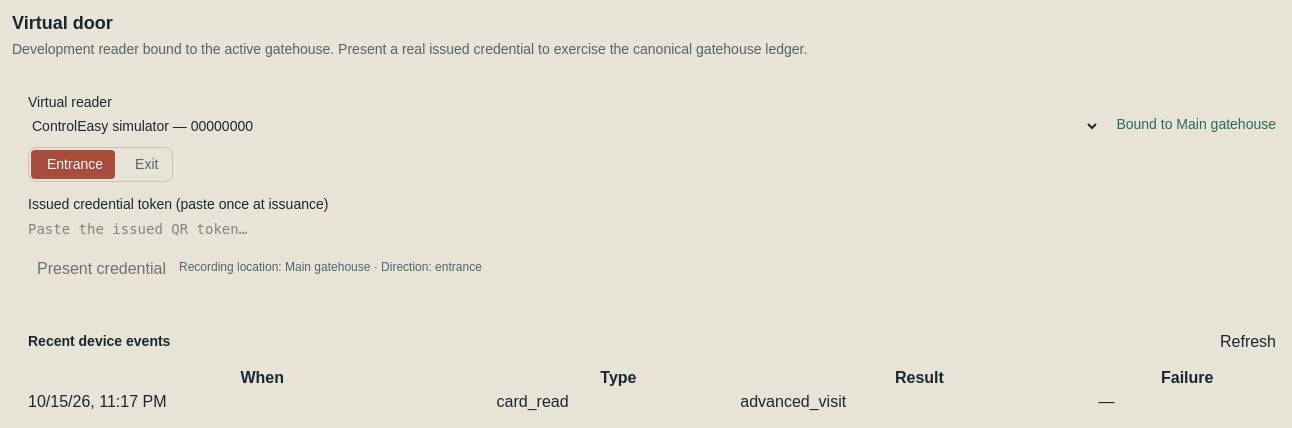
VirtualDoorComponent › displays the gatehouse binding and enables presentation for a ready reader
The width and height of the screenshot is (1292, 428).
expect the button "Present credential" is disabled: met, box [28, 256, 167, 282]
Type "issued-credential-token" into the field with test id "virtual-door-token-input" at (652, 229), box [28, 218, 1276, 240]
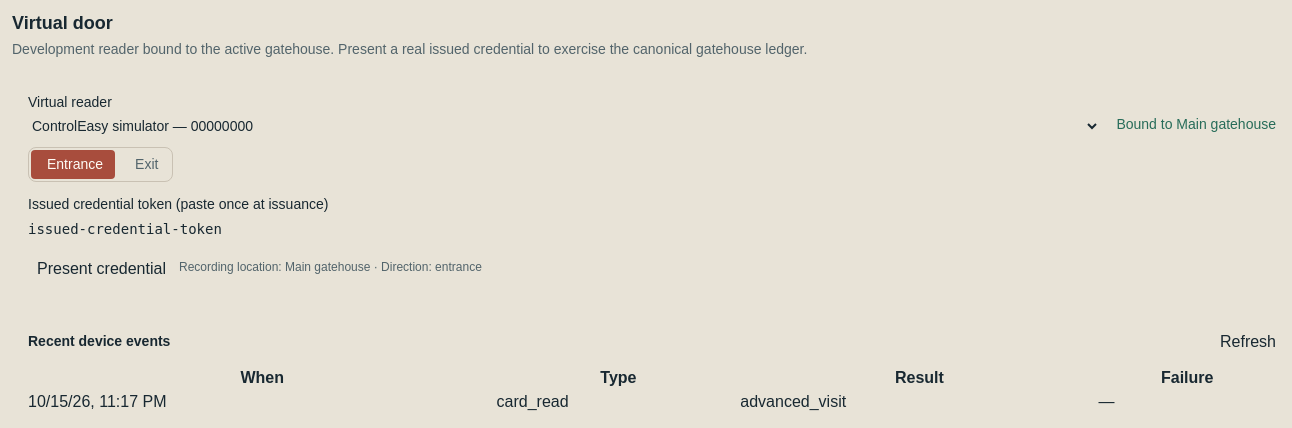
expect the button "Present credential" is enabled: met, box [28, 256, 167, 282]
